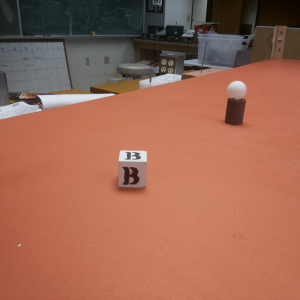blockB: (117, 149, 147, 188)
corner: (272, 24, 287, 61)
obstacle: (225, 80, 247, 127)
